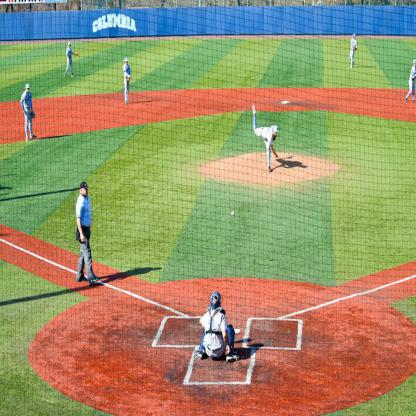face: (83, 187, 88, 197), (275, 130, 278, 137), (28, 87, 31, 93), (354, 36, 356, 41), (71, 44, 72, 47)
